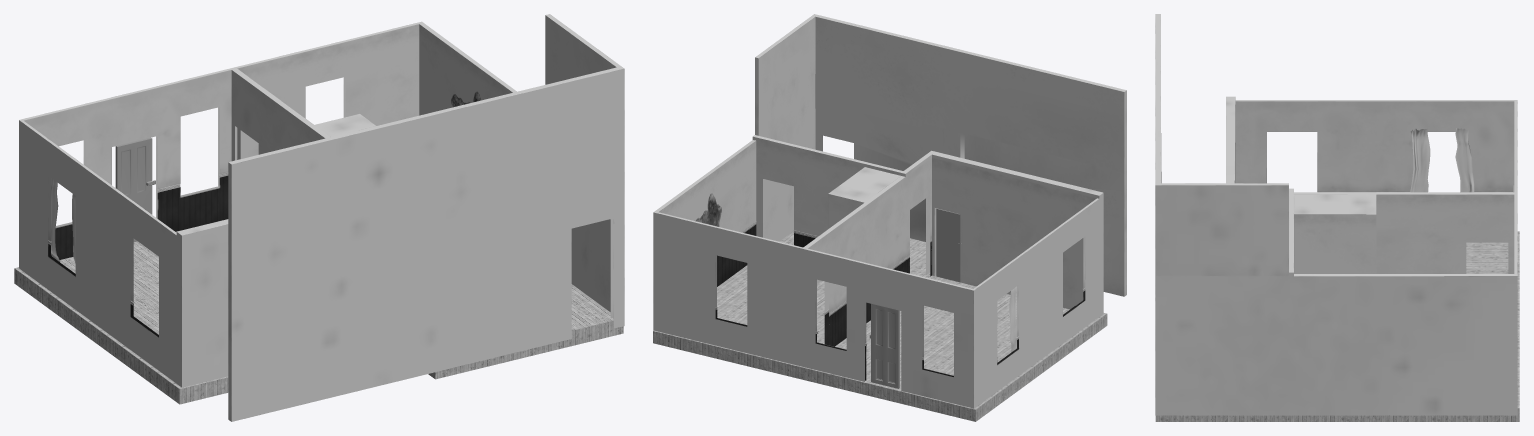
Rendered from RoomWalls_120.fbx.
The picture shows the model from 3 angles, left to right: view 1: azimuth 30°, elevation 25°; view 2: azimuth 150°, elevation 25°; view 3: azimuth 270°, elevation 25°; orthographic projection. The views are drawn at different scales.
Parts seen in each view (by area): view 1: Room_Walls_v3, Room_Floor, Door; view 2: Room_Walls_v3, Room_Floor, Door, Basement_Door, Room_Walls_v7, Wall_Fur, window:Curtains:Curtain01; view 3: Room_Walls_v3, Room_Floor, window:Curtains:Curtain01, window:Curtains:Curtain02.
Part boxes in pixels (x1=…): Room_Walls_v3: x1=19, y1=14, x2=624, y2=421; Room_Floor: x1=14, y1=219, x2=623, y2=404; Door: x1=115, y1=137, x2=152, y2=242; Room_Walls_v3: x1=653, y1=14, x2=1126, y2=408; Room_Floor: x1=653, y1=231, x2=1107, y2=421; Door: x1=871, y1=303, x2=899, y2=388; Basement_Door: x1=936, y1=208, x2=960, y2=282; Room_Walls_v7: x1=717, y1=221, x2=756, y2=286; Wall_Fur: x1=694, y1=192, x2=722, y2=226; window:Curtains:Curtain01: x1=1009, y1=286, x2=1016, y2=352; Room_Walls_v3: x1=1155, y1=14, x2=1517, y2=415; Room_Floor: x1=1155, y1=231, x2=1519, y2=421; window:Curtains:Curtain01: x1=1410, y1=128, x2=1430, y2=192; window:Curtains:Curtain02: x1=1455, y1=128, x2=1474, y2=192.
Size of the model in its own units: 27.75 by 17.27 by 24.07.
